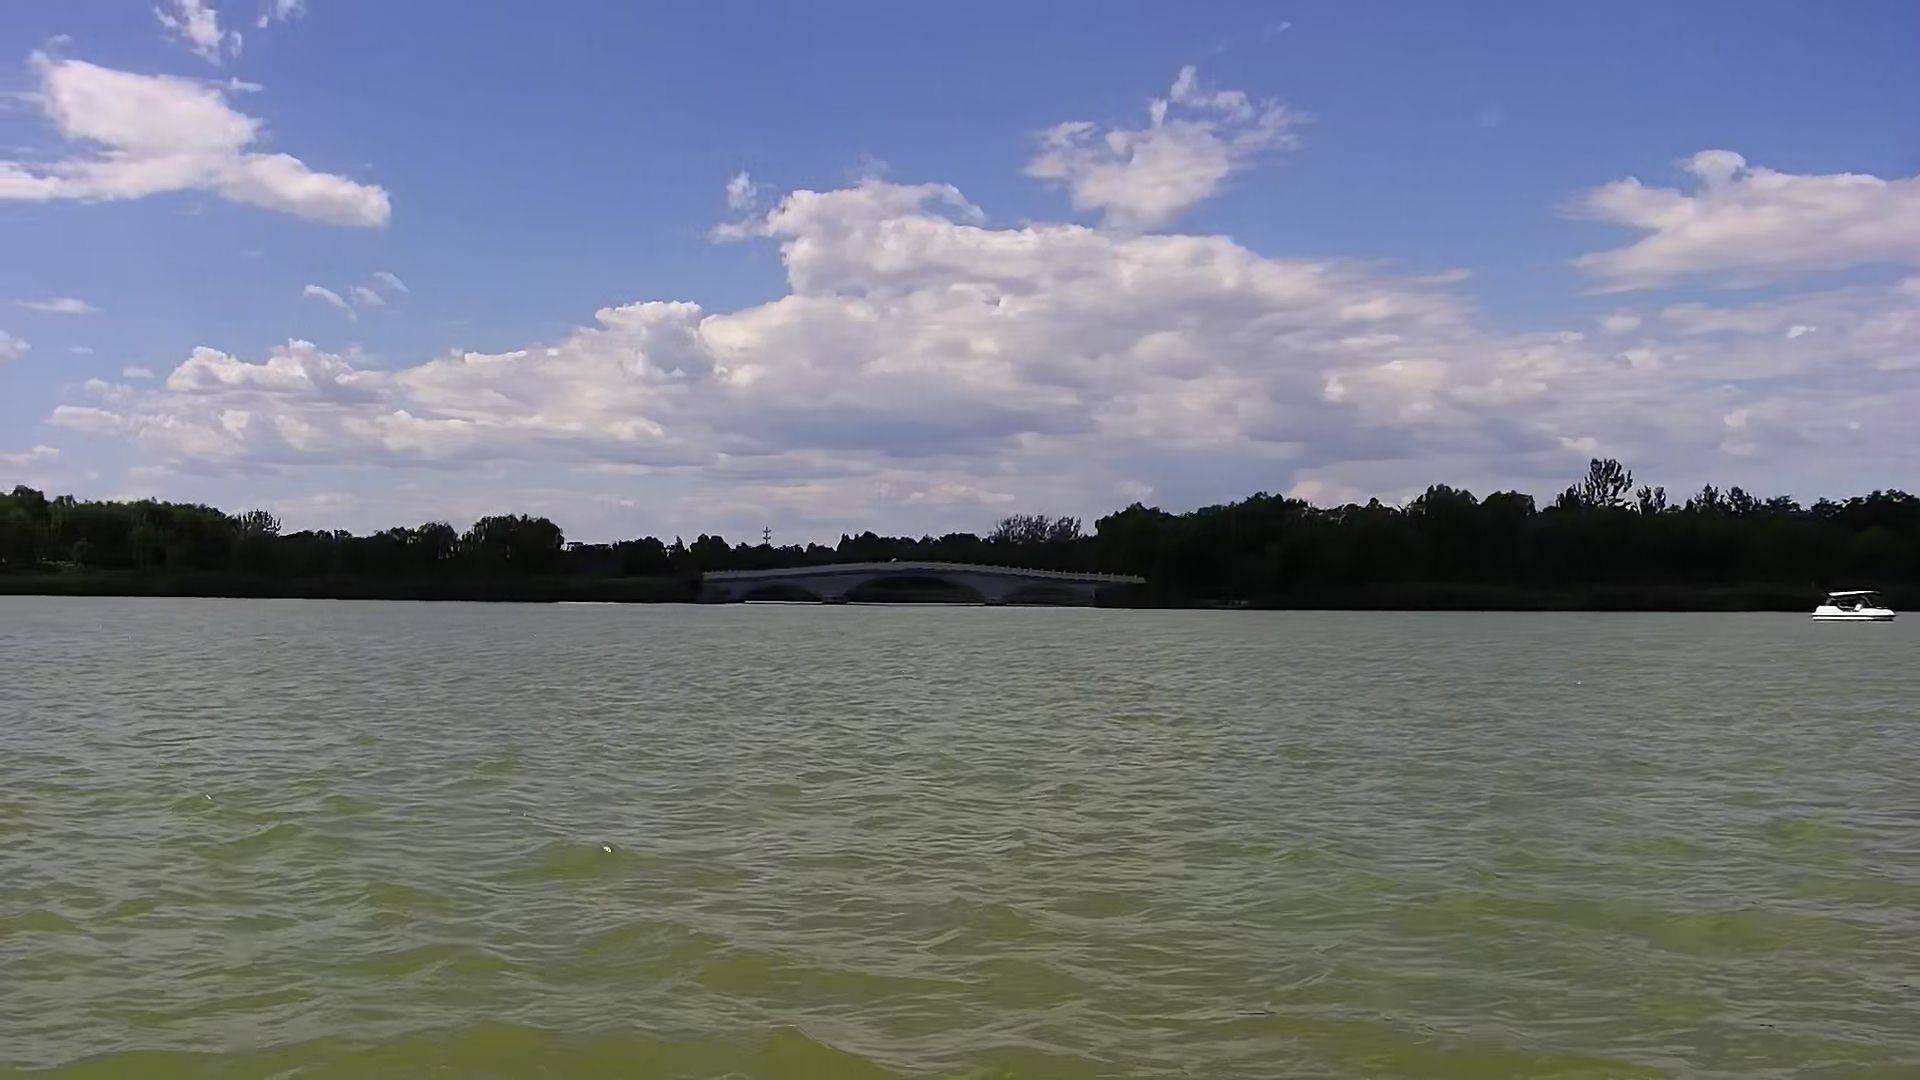boat: (1811, 589, 1895, 632)
bridge: (703, 559, 1143, 611)
